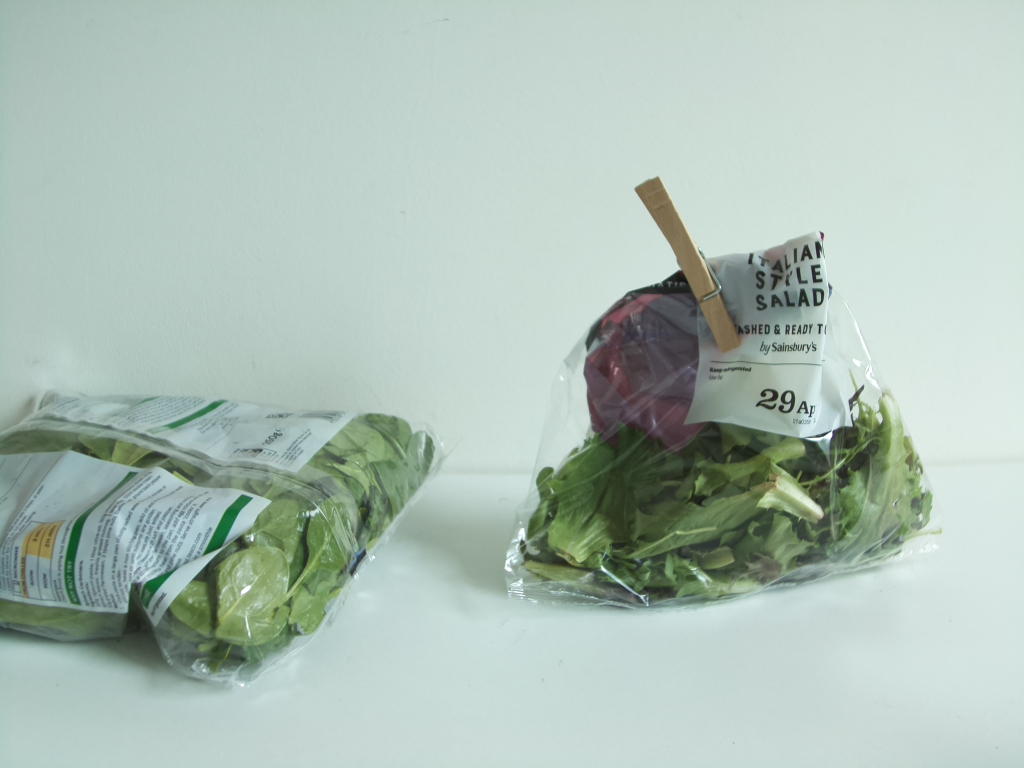salad: (508, 233, 942, 605), (1, 389, 433, 677)
